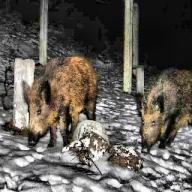boar: (20, 55, 97, 149), (136, 67, 191, 153)
